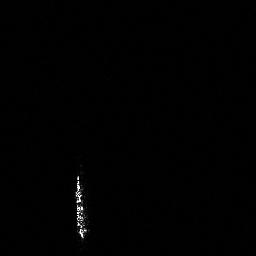ship: (71, 173, 92, 243)
